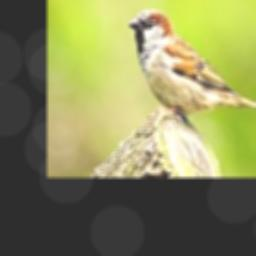Sparrow: (128, 9, 256, 126)
